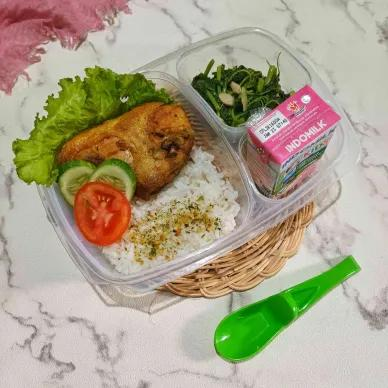daging: (95, 131, 183, 155)
makanan_berpati: (139, 203, 213, 240)
